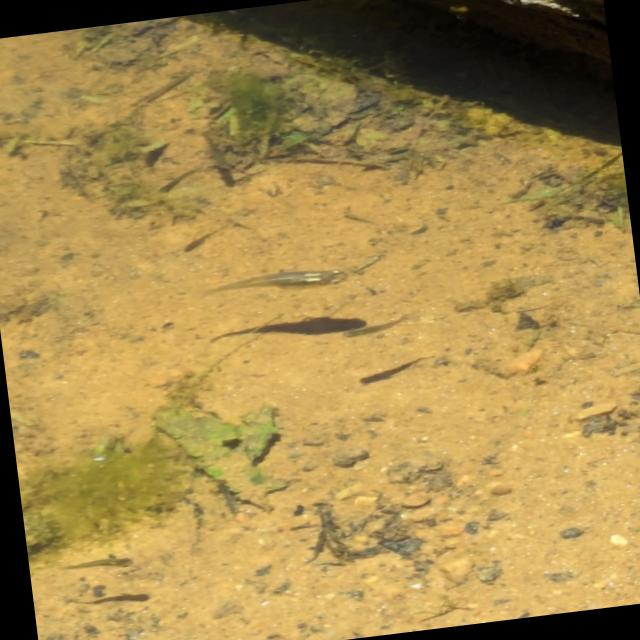Sivrisinek Baligi: (208, 251, 384, 304), (334, 312, 406, 342), (61, 550, 136, 574)
